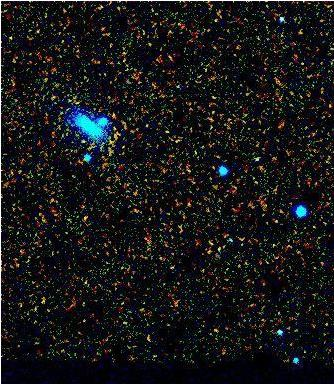star: (64, 123, 94, 153)
